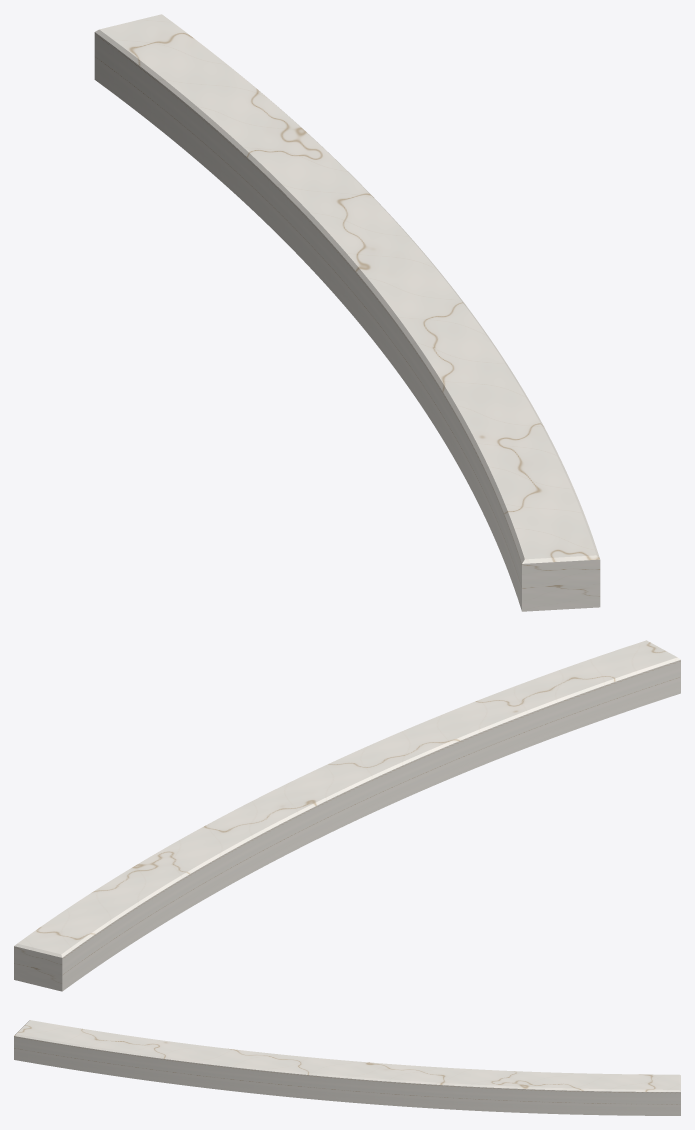
The model's file is f01-g-cream-marble-pool-trim-3m-showcase.glb.
3 views of the same model, one above another, from view 1: azimuth 30°, elevation 25°; view 2: azimuth 150°, elevation 25°; view 3: azimuth 270°, elevation 25° (orthographic). The views are drawn at different scales.
Parts seen in each view (by area): view 1: S7-FLOOR-F01-G-3m-showcase - genuine curved poolside marble ; view 2: S7-FLOOR-F01-G-3m-showcase - genuine curved poolside marble ; view 3: S7-FLOOR-F01-G-3m-showcase - genuine curved poolside marble .
Boxes of the visible parts, <box> form: S7-FLOOR-F01-G-3m-showcase - genuine curved poolside marble : <box>94,14,600,611</box>; S7-FLOOR-F01-G-3m-showcase - genuine curved poolside marble : <box>14,640,680,991</box>; S7-FLOOR-F01-G-3m-showcase - genuine curved poolside marble : <box>14,1020,680,1115</box>.
Size of the model in its own units: 0.8142 by 0.135 by 3.21.
1 material, 1 textured.
